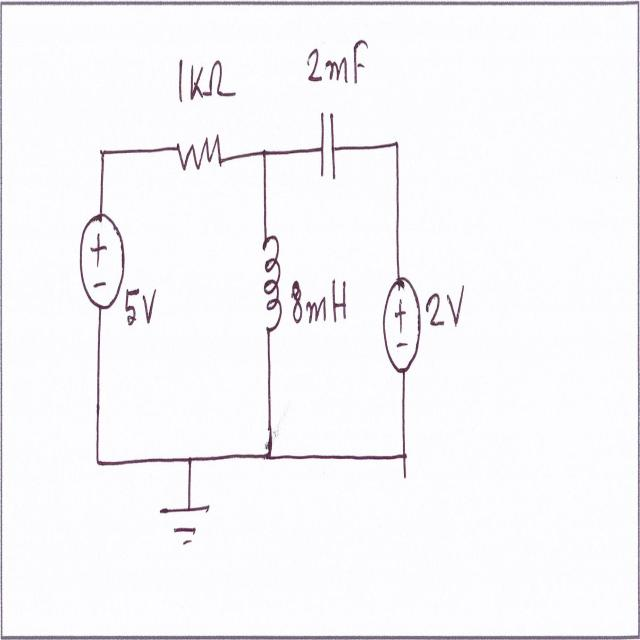capacitor: (316, 96, 341, 193)
ground: (157, 498, 219, 553)
inductor: (253, 229, 285, 342)
resistor: (168, 127, 223, 183)
voltage_source: (76, 206, 127, 306), (378, 271, 424, 373)
